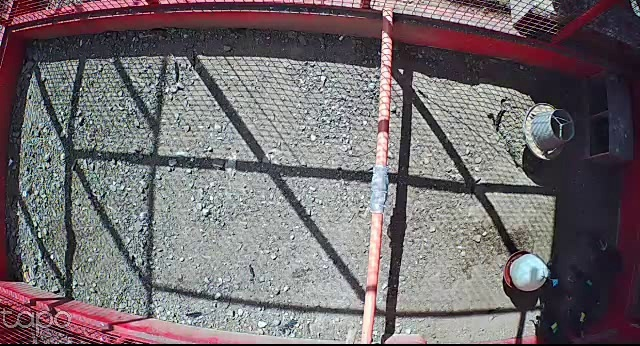Chicken: (559, 287, 597, 341), (531, 301, 576, 346), (538, 246, 573, 303), (564, 261, 602, 309)
Drinker: (502, 252, 550, 292)
Feeder: (524, 102, 575, 162)
Rooster: (585, 235, 627, 280)
Saddle_Color_Blue: (551, 277, 559, 288)
Saddle_Color_Yellow: (580, 312, 586, 322)
Saddle_Color_YellowGreen: (549, 322, 559, 334)
